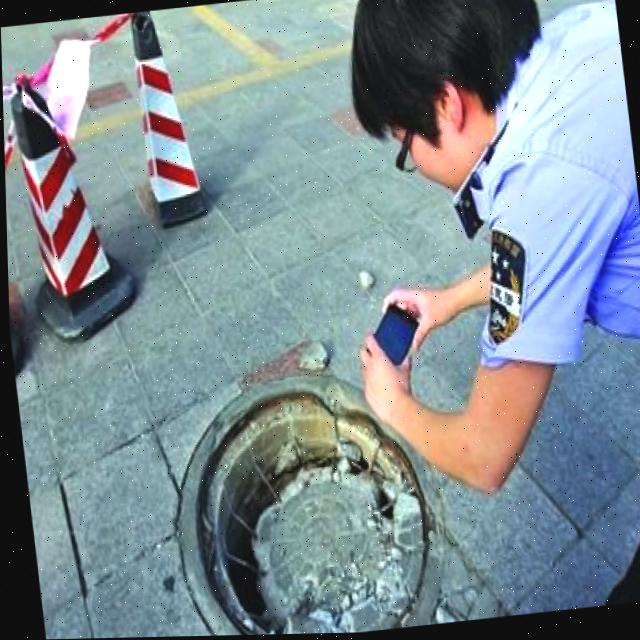manhole: (153, 346, 444, 637)
